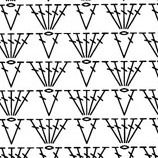enseble_chain: (117, 56, 153, 94), (3, 85, 40, 121), (78, 27, 114, 63), (79, 85, 115, 121), (118, 114, 153, 150), (42, 57, 77, 93), (43, 0, 77, 37), (4, 29, 38, 64), (114, 0, 149, 34), (43, 115, 77, 150), (99, 112, 129, 149), (99, 57, 129, 92), (39, 87, 69, 121), (113, 30, 144, 62), (99, 0, 128, 34), (39, 31, 68, 64), (27, 114, 53, 147), (26, 58, 52, 91), (5, 117, 31, 148), (118, 88, 144, 119), (79, 60, 105, 90), (29, 1, 53, 33), (80, 117, 105, 147), (80, 3, 104, 33), (5, 61, 29, 90), (6, 4, 29, 33), (0, 88, 16, 119), (76, 32, 93, 59)
fan: (1, 88, 20, 117), (113, 60, 130, 88), (77, 89, 94, 116), (42, 117, 58, 144), (40, 61, 54, 88)
